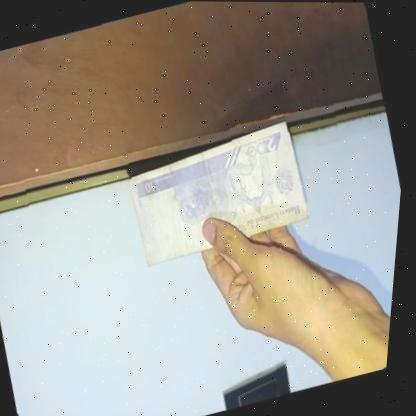ten-back-vef: (118, 117, 321, 269)
